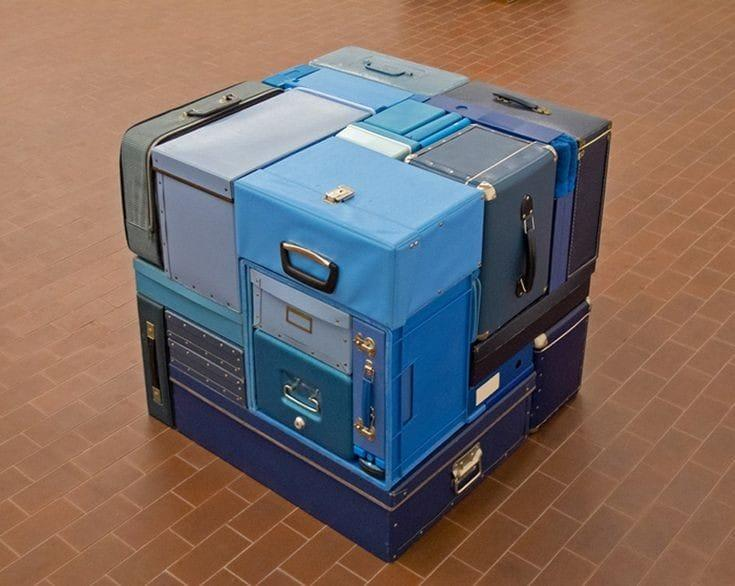cubos: (107, 39, 631, 574)
